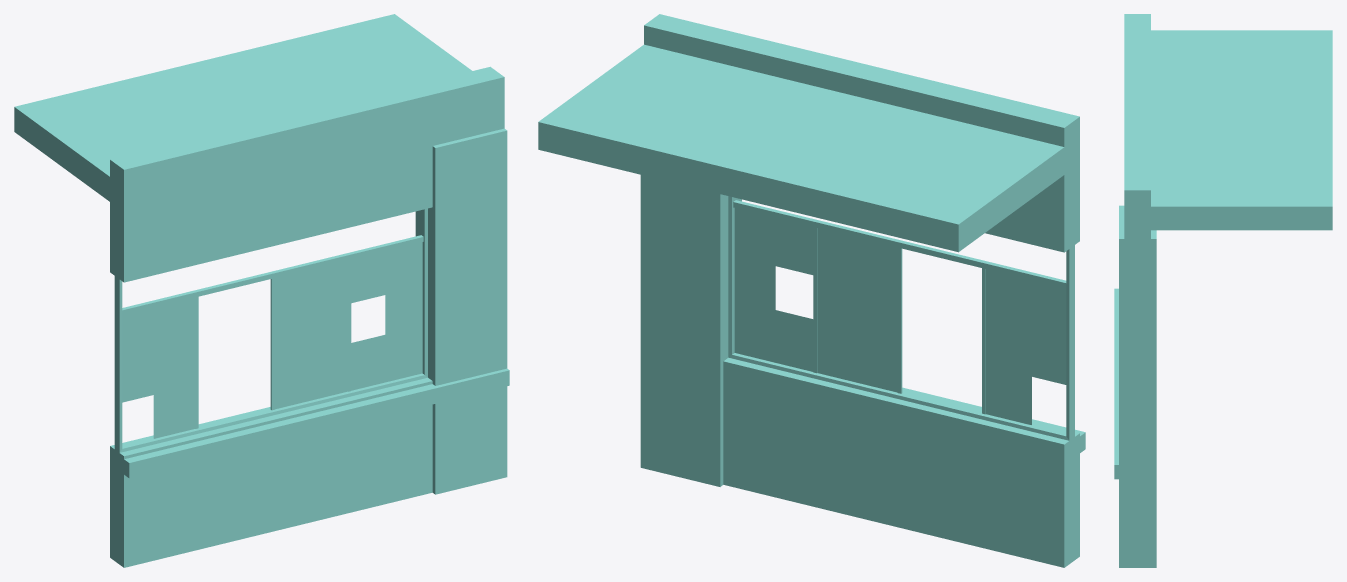
The model's file is DinerWallWindow2_Collision.fbx.
The picture shows the model from 3 angles, left to right: view 1: azimuth 30°, elevation 25°; view 2: azimuth 150°, elevation 25°; view 3: azimuth 270°, elevation 25°; orthographic projection. The views are drawn at different scales.
Visible parts, largest first — view 1: DinerWallWindow2_Collision; view 2: DinerWallWindow2_Collision; view 3: DinerWallWindow2_Collision.
Part boxes in pixels (bbox=[...]): DinerWallWindow2_Collision: bbox=[14, 14, 509, 567]; DinerWallWindow2_Collision: bbox=[538, 14, 1085, 567]; DinerWallWindow2_Collision: bbox=[1114, 14, 1332, 567].
Size of the model in its own units: 3.52 by 3.52 by 1.84.
